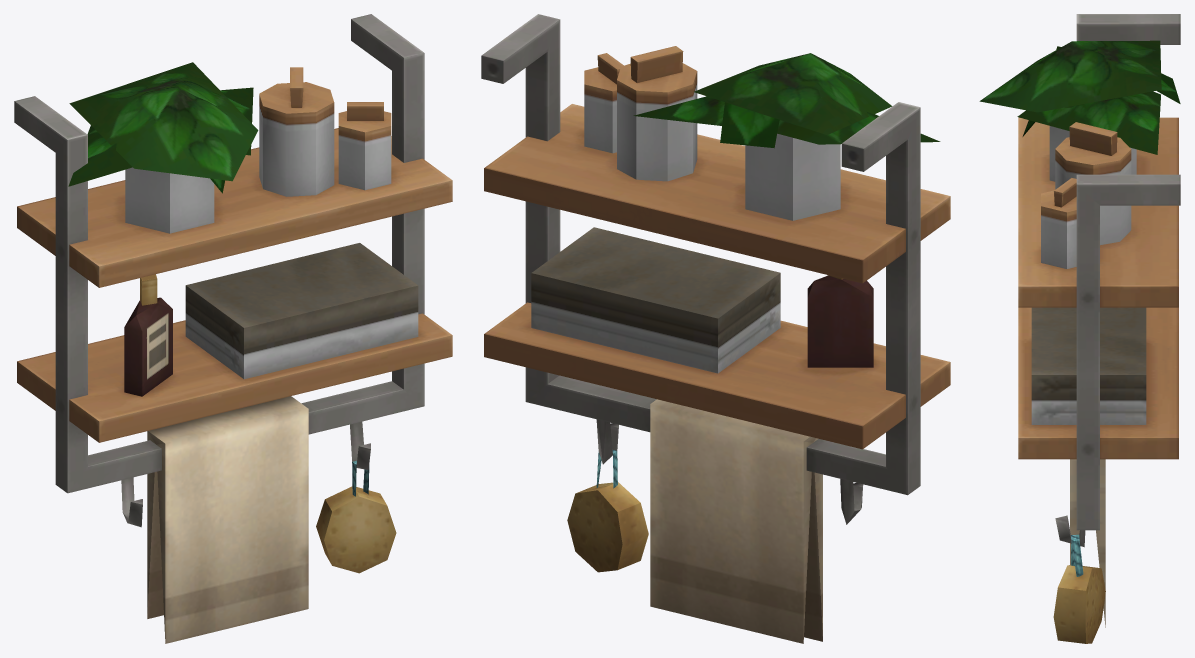
File: estanteriaAuxiliar.fbx
The picture shows the model from 3 angles, left to right: view 1: azimuth 30°, elevation 25°; view 2: azimuth 150°, elevation 25°; view 3: azimuth 270°, elevation 25°; orthographic projection. The views are drawn at different scales.
Visible parts, largest first — view 1: s4studio_mesh_2; view 2: s4studio_mesh_2; view 3: s4studio_mesh_2.
Part boxes in pixels (x1,y1,x2,y2): s4studio_mesh_2: [14, 14, 452, 643]; s4studio_mesh_2: [481, 14, 950, 643]; s4studio_mesh_2: [979, 14, 1180, 643].
Bounding box in the file's own units: 75.57 × 108 × 36.79.
Materials: 2 (2 with a texture image).
